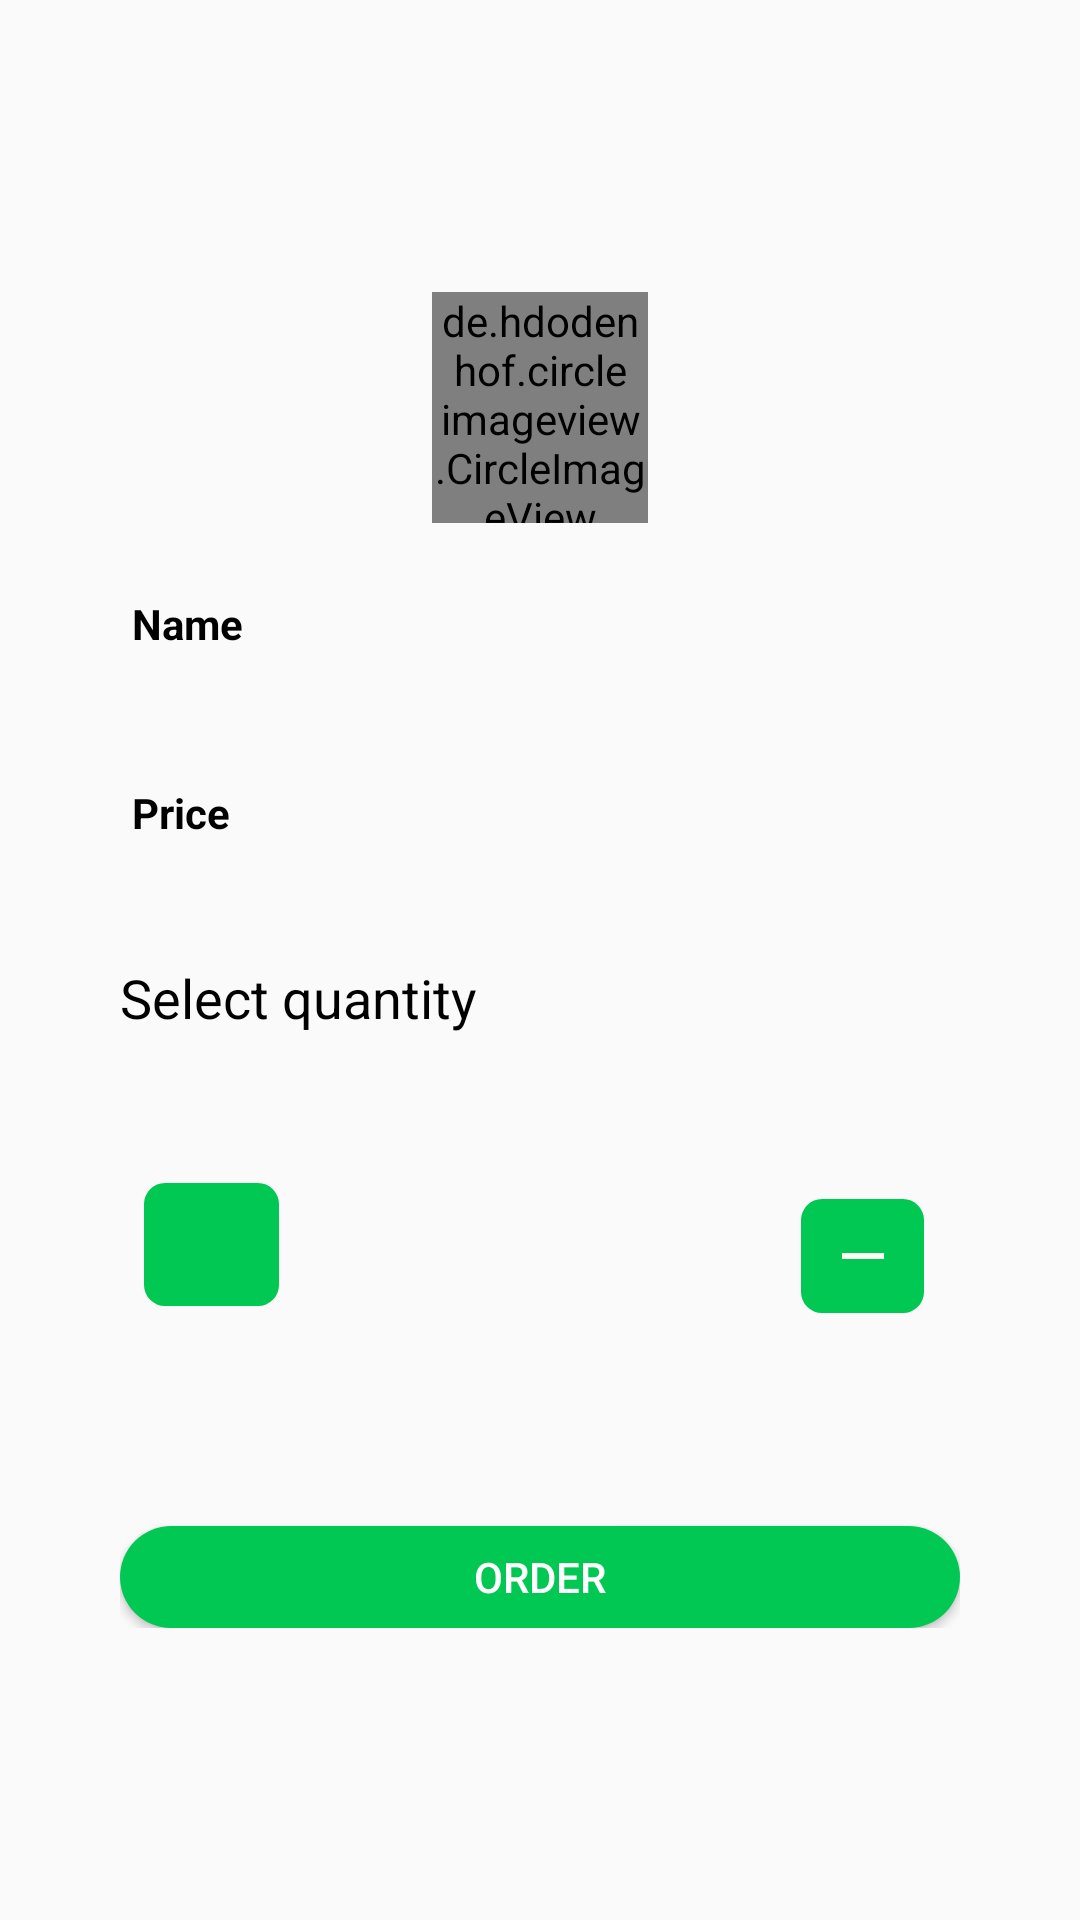

Named icons in this screenshot (1080w x 1920h) and their bounding boxes, (x1, y1, x2, y2):
minus: (801, 1199, 924, 1313)
